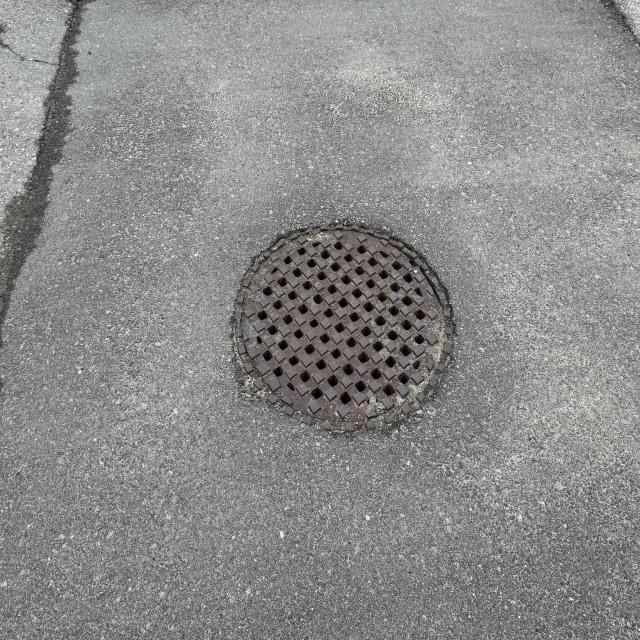Manhole: (231, 214, 456, 435)
